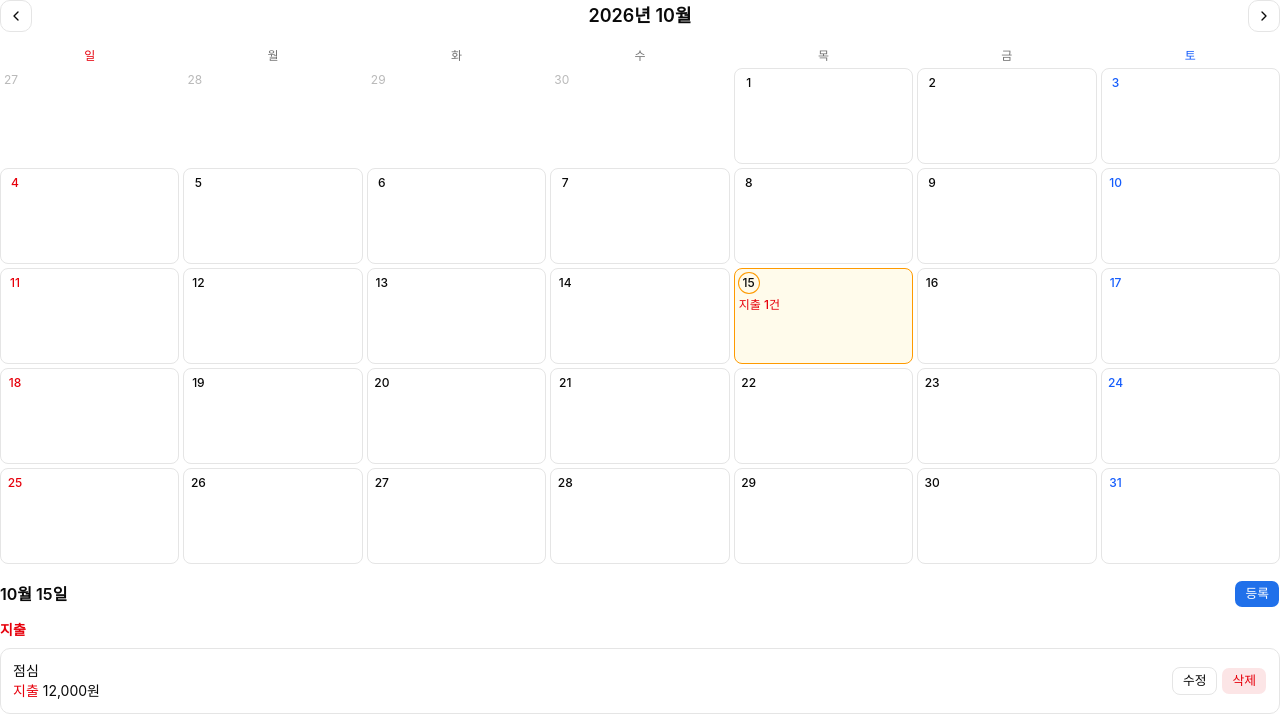
Test: Ledger › edits a record in the form dialog and shows the change in the panel
The image size is (1280, 720).
Click the button "수정": click(1195, 681) [1172,667,1217,695]
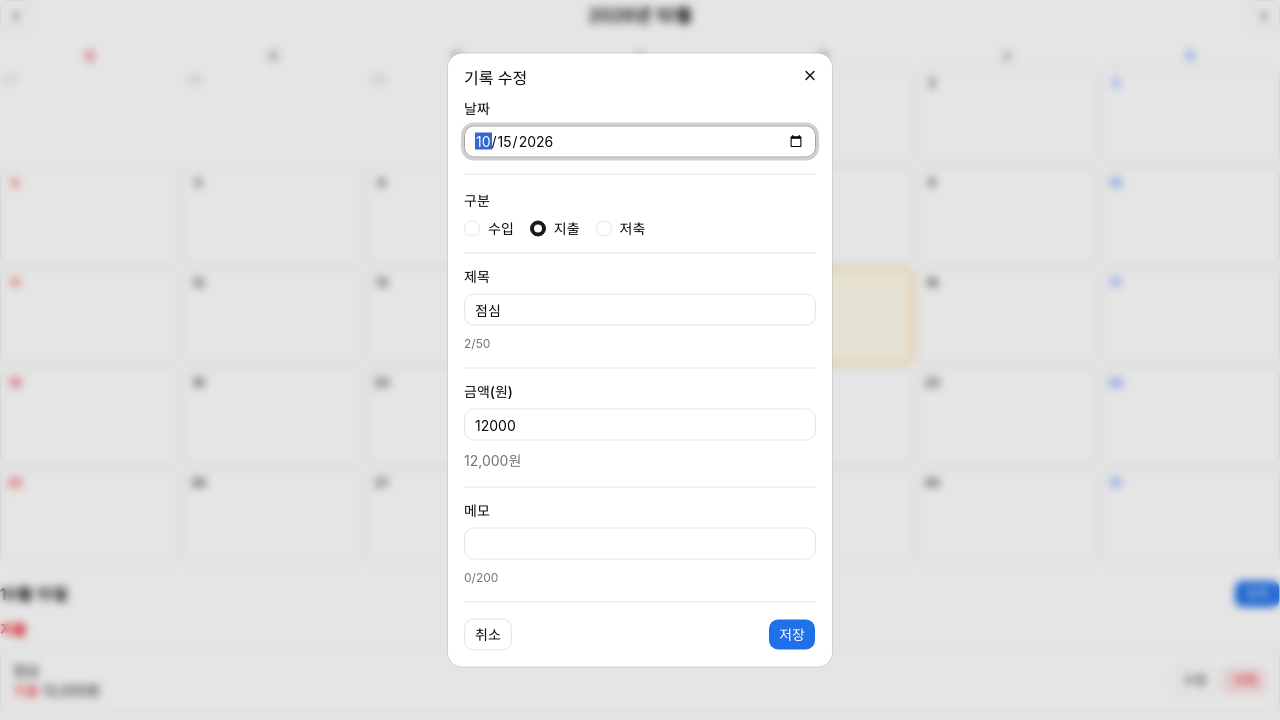
expect the field labelled "제목" holds "점심": met
Replace the text in the field labelled "제목" with "회식": (640, 310) [464,294,816,326]
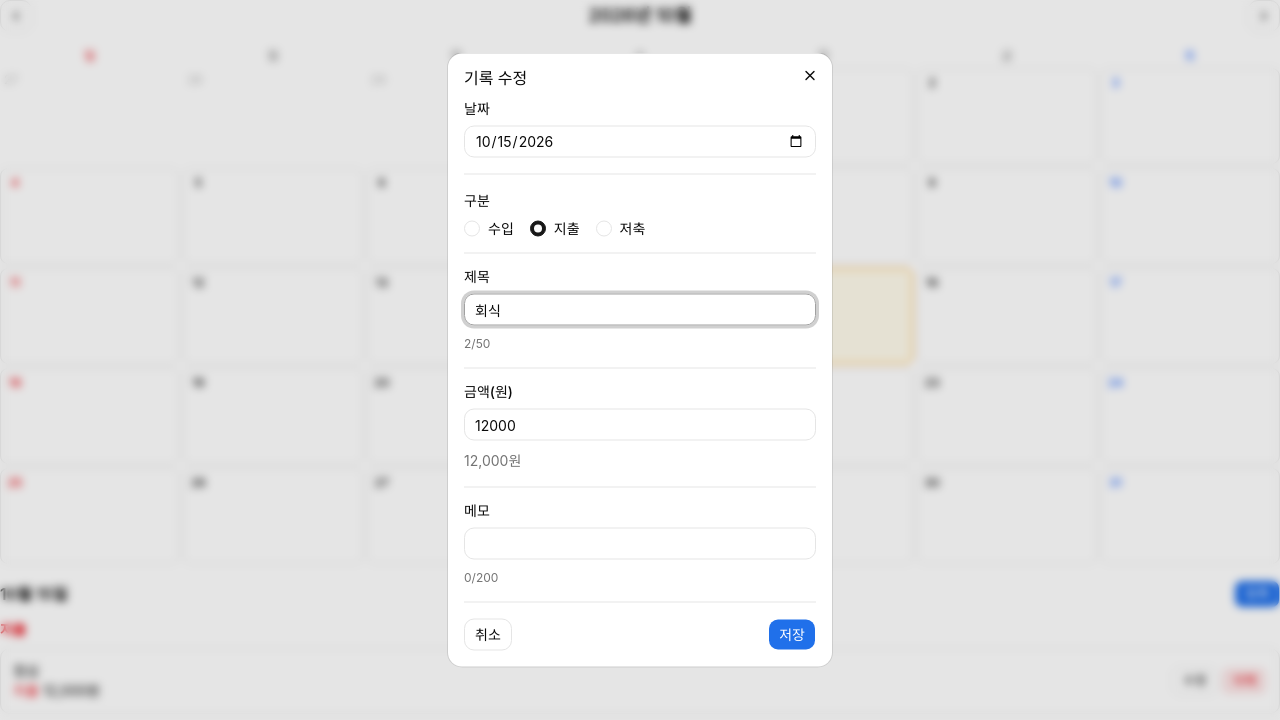
Click the button "저장": click(792, 634) [768,618,816,650]
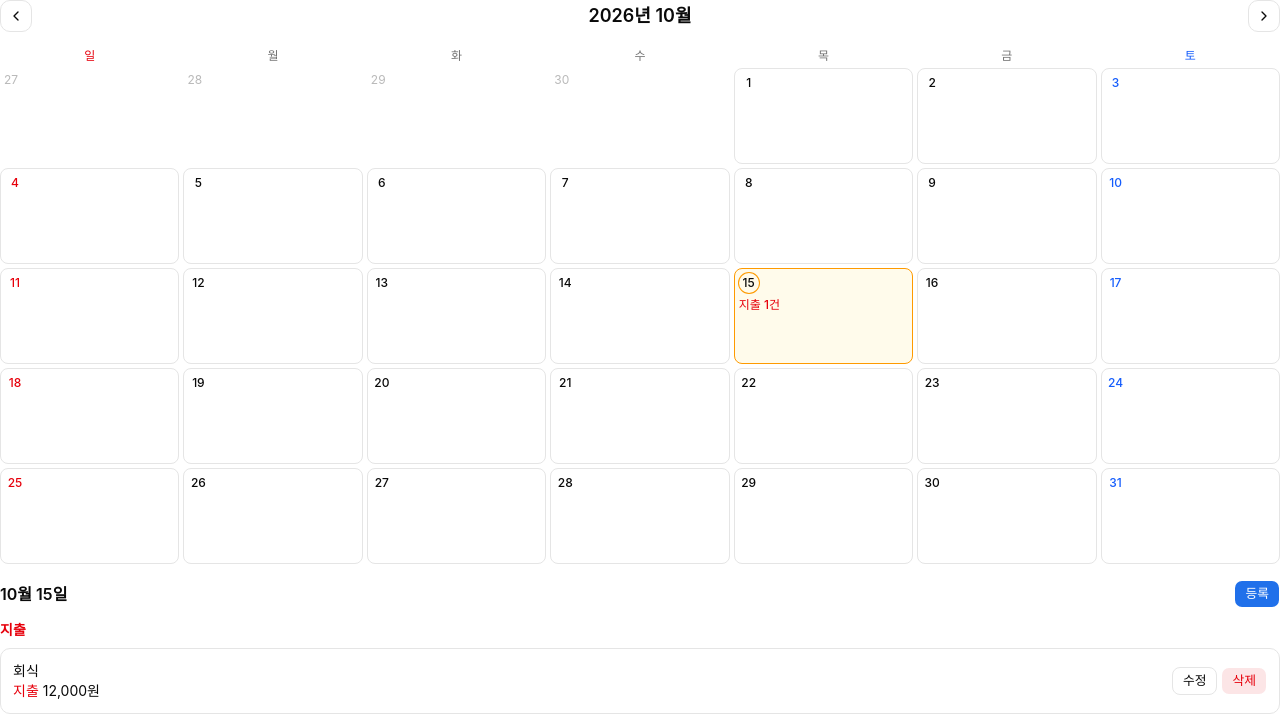
expect the dialog is gone: met
expect the text "회식" is shown: met, box [13,662,39,679]
